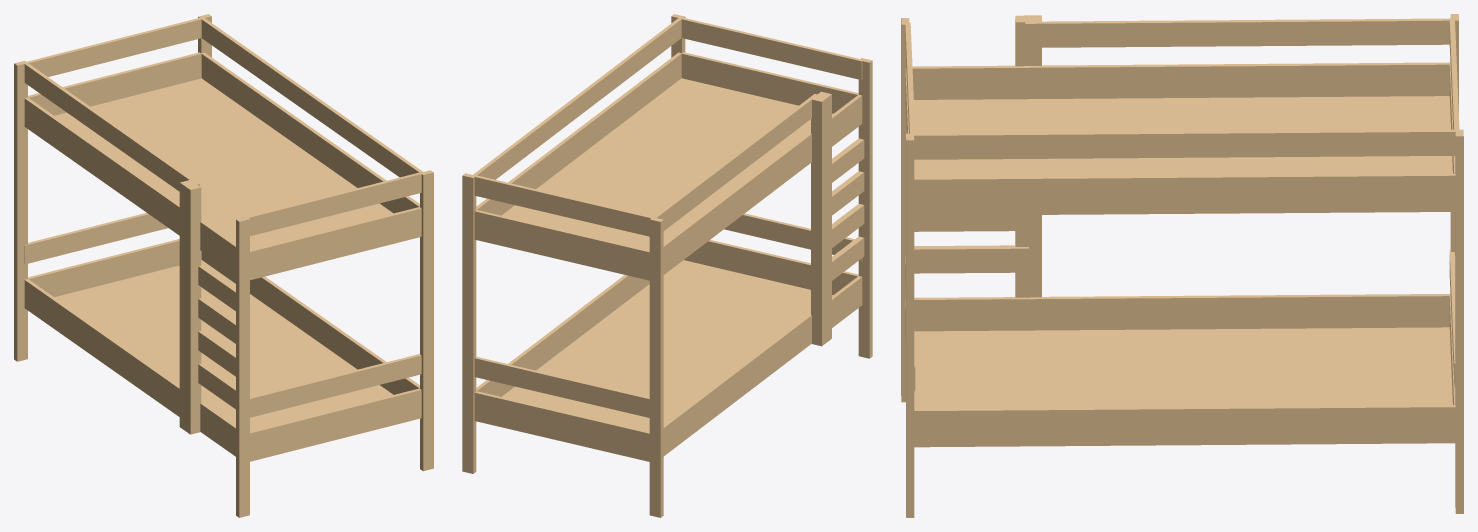
3 views of the same model, side by side, from view 1: azimuth 30°, elevation 25°; view 2: azimuth 150°, elevation 25°; view 3: azimuth 270°, elevation 25° (orthographic). The views are drawn at different scales.
Parts seen in each view (by area): view 1: bunk_frame; view 2: bunk_frame; view 3: bunk_frame.
Boxes of the visible parts, bbox=[...] form: bunk_frame: bbox=[14, 14, 433, 517]; bunk_frame: bbox=[462, 14, 872, 517]; bunk_frame: bbox=[901, 14, 1463, 517].
Size of the model in its own units: 1.07 by 1.5 by 2.02.
